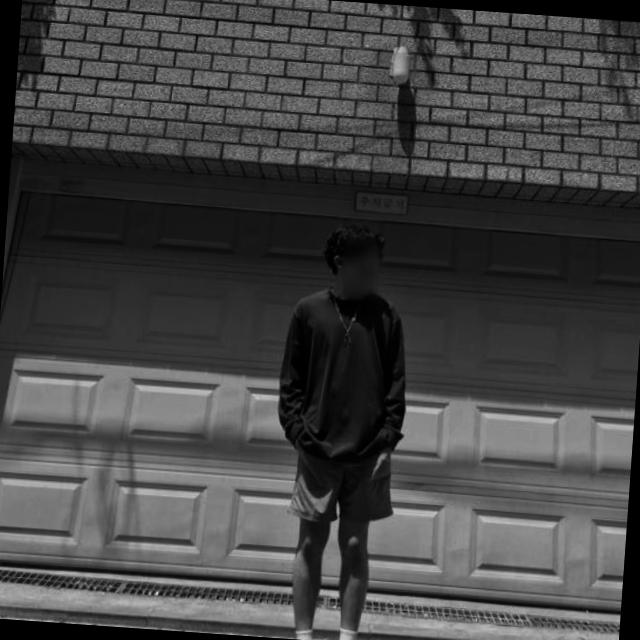longsleeve: (274, 288, 417, 467)
shortpants: (289, 447, 396, 526)
